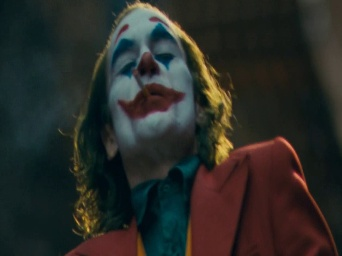smoke: (133, 69, 151, 97)
